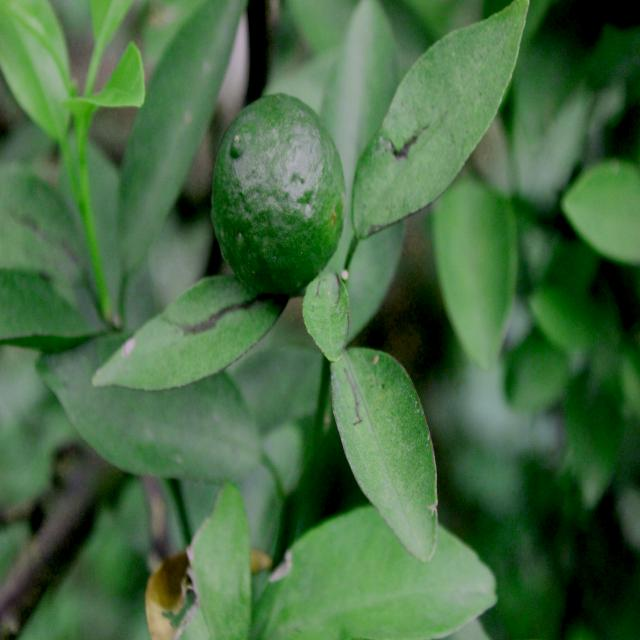blackspot: (399, 23, 512, 144), (342, 366, 432, 516)
